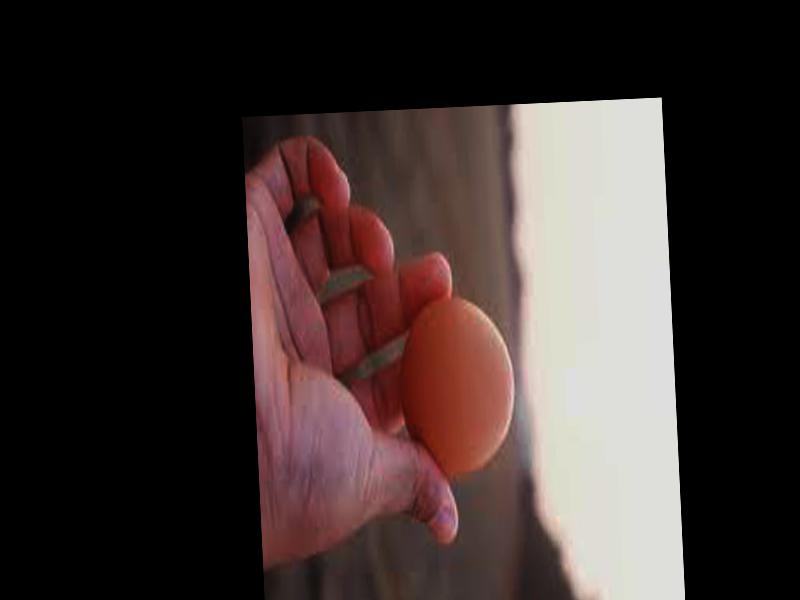Eggs: (398, 294, 518, 476)
